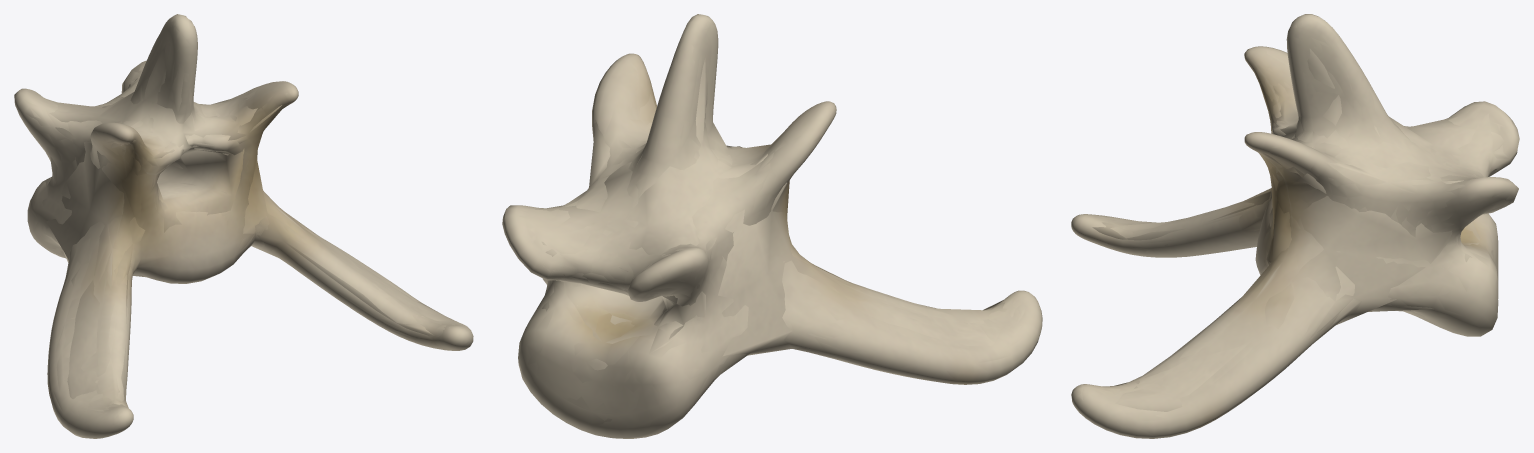
The model's file is vertebrae lumbales 7.fbx.
3 views of the same model, side by side, from view 1: azimuth 30°, elevation 25°; view 2: azimuth 150°, elevation 25°; view 3: azimuth 270°, elevation 25° (orthographic). The views are drawn at different scales.
Visible parts, largest first — view 1: vertebrae lumbales 7, vertebrae lumbales 7 low, vertebrae lumbales 7 high; view 2: vertebrae lumbales 7, vertebrae lumbales 7 low, vertebrae lumbales 7 high; view 3: vertebrae lumbales 7, vertebrae lumbales 7 low, vertebrae lumbales 7 high.
Part boxes in pixels (box(x1,y1,x2,y2)): vertebrae lumbales 7: box(14, 14, 473, 438); vertebrae lumbales 7 low: box(45, 45, 454, 408); vertebrae lumbales 7 high: box(15, 14, 472, 437); vertebrae lumbales 7: box(502, 14, 1042, 438); vertebrae lumbales 7 low: box(535, 58, 1014, 378); vertebrae lumbales 7 high: box(505, 16, 1040, 438); vertebrae lumbales 7: box(1071, 14, 1519, 438); vertebrae lumbales 7 low: box(1092, 48, 1504, 411); vertebrae lumbales 7 high: box(1071, 15, 1518, 437).
Size of the model in its own units: 11.58 by 8.97 by 11.04.
1 material, 1 textured.
